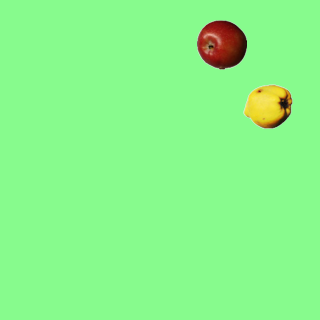Apple Braeburn: (196, 19, 246, 69)
Quince: (242, 81, 292, 131)
